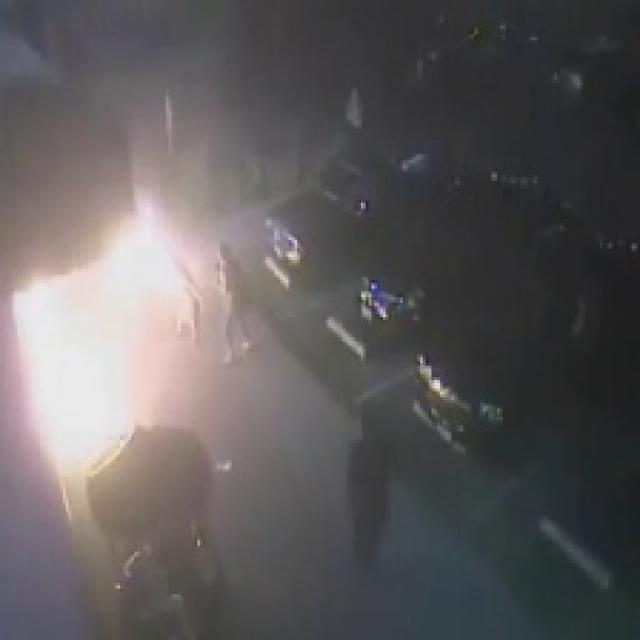fire: (11, 246, 169, 472)
